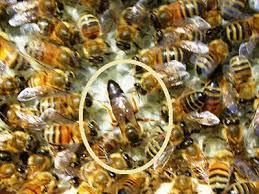Queen-Bee: (104, 77, 151, 148)
worker-bee: (107, 80, 142, 144), (17, 69, 74, 100), (172, 91, 219, 125), (25, 39, 78, 69), (78, 13, 109, 63), (21, 17, 76, 45), (207, 14, 258, 44), (115, 1, 146, 49), (191, 39, 228, 78), (151, 0, 204, 27), (7, 0, 62, 25), (37, 93, 80, 121), (229, 56, 255, 99), (135, 46, 188, 67), (0, 104, 45, 128), (80, 160, 112, 192), (0, 36, 29, 71), (182, 143, 208, 182), (208, 150, 232, 192), (173, 91, 205, 120), (105, 172, 149, 193), (44, 122, 82, 146), (154, 61, 189, 87), (223, 113, 245, 154), (17, 171, 56, 193), (0, 131, 34, 152), (83, 37, 109, 63), (27, 150, 52, 177), (203, 80, 222, 114), (0, 162, 23, 190), (169, 171, 197, 193), (78, 13, 101, 38), (0, 75, 24, 98), (218, 0, 247, 19), (223, 181, 258, 193), (79, 0, 109, 12), (108, 153, 128, 169), (77, 181, 96, 193)
